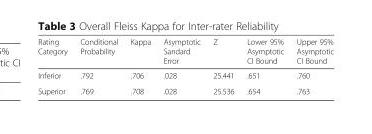table: (37, 36, 332, 95)
table column: (73, 36, 123, 95), (156, 36, 206, 95), (239, 36, 289, 95), (289, 36, 332, 95), (37, 36, 73, 95), (123, 36, 156, 95), (206, 36, 239, 95)
table column header: (37, 36, 332, 67)
table row: (37, 36, 332, 67), (37, 67, 332, 82), (37, 82, 332, 95)
